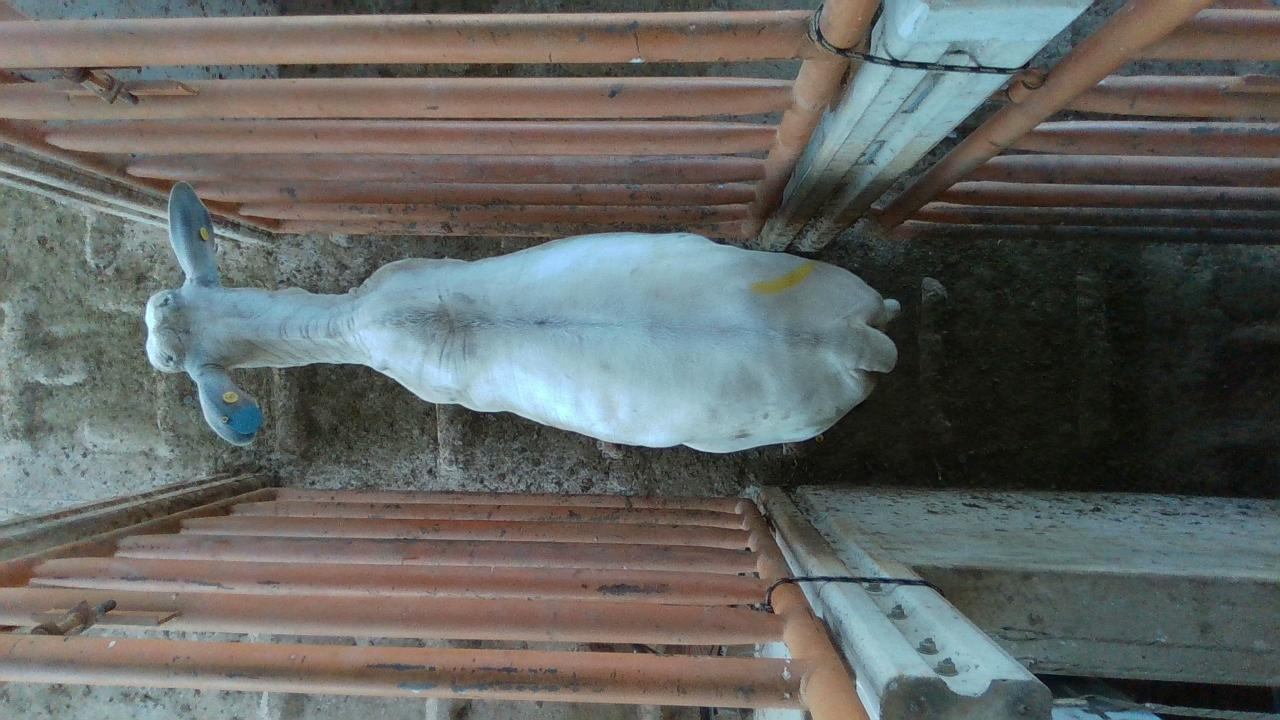cattle: (142, 179, 901, 454)
